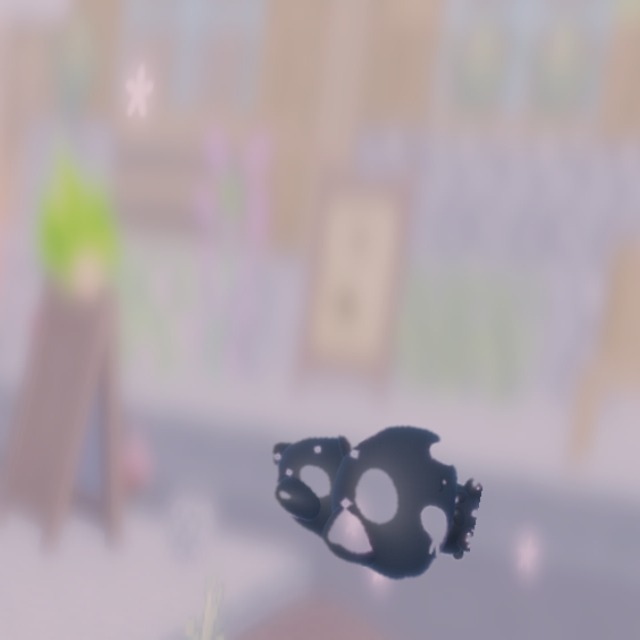urso_preto: (237, 382, 495, 600)
